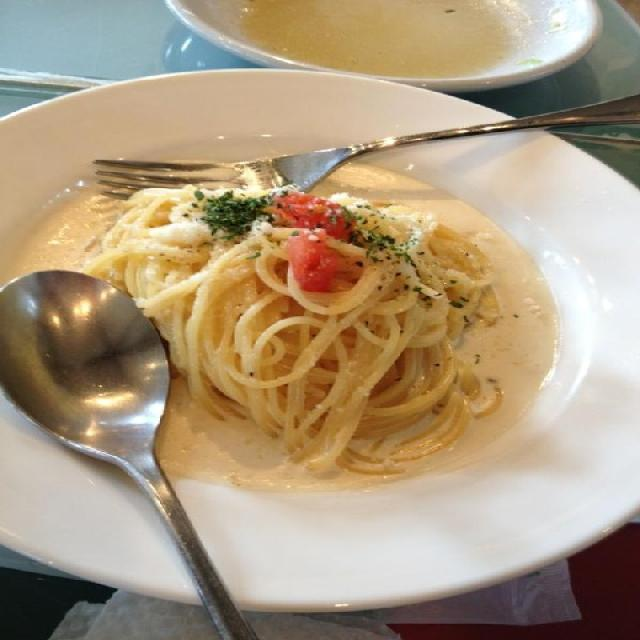Pasta: (104, 168, 498, 464)
